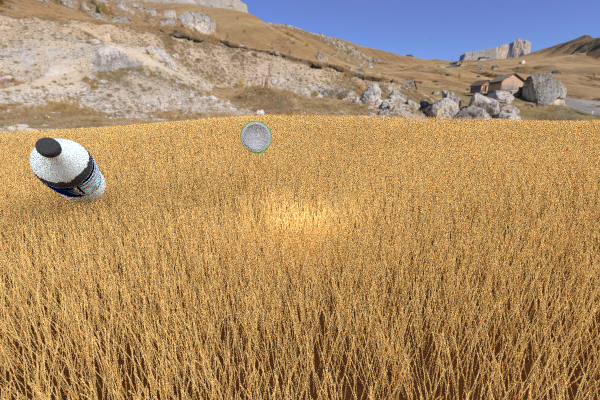Plastic Bottle: (29, 137, 105, 203), (375, 127, 475, 173), (240, 120, 271, 153)
